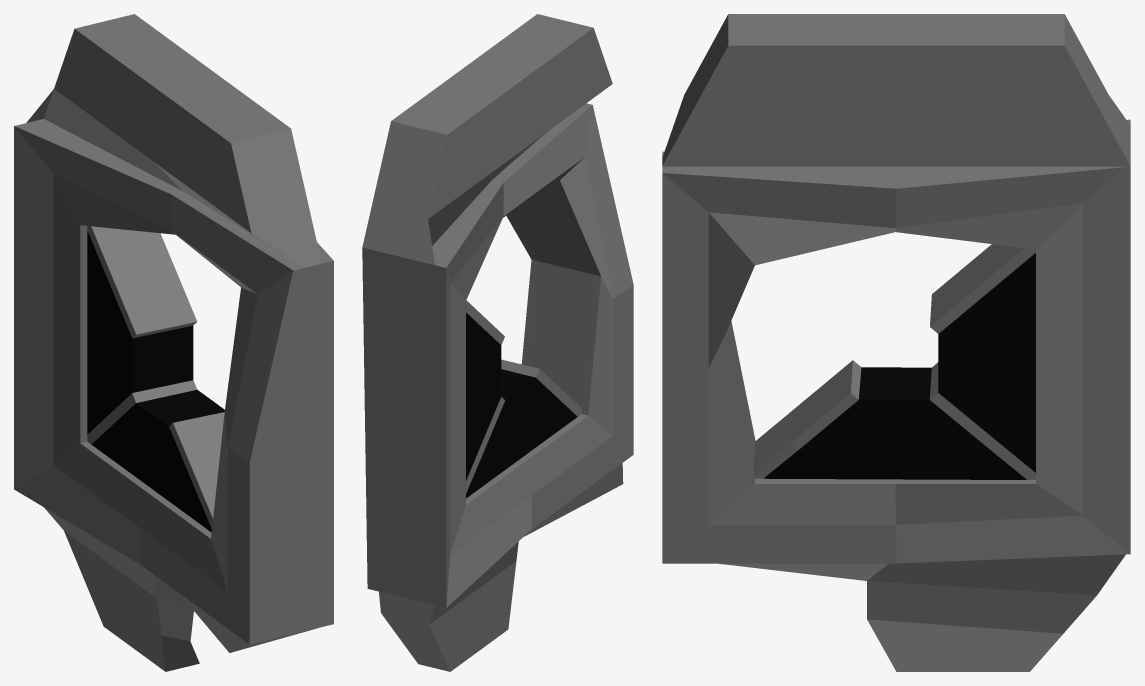
The model's file is DverSlomanaya.fbx.
3 renders of one model, left to right at view 1: azimuth 30°, elevation 25°; view 2: azimuth 150°, elevation 25°; view 3: azimuth 270°, elevation 25°, orthographic. The views are drawn at different scales.
Parts seen in each view (by area): view 1: Door; view 2: Door; view 3: Door.
Part boxes in pixels (x1,y1,x2,y2): Door: (14,14,333,671); Door: (362,14,633,671); Door: (662,14,1130,671).
Bounding box in the file's own units: 54.61 × 233 × 156.
2 materials, 1 textured.
